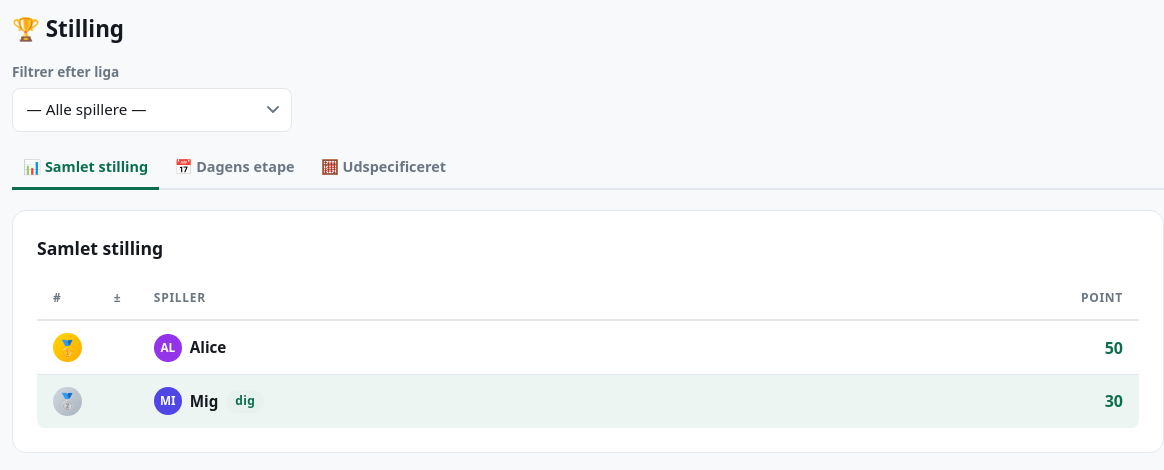
Test: LeaderboardPage › viser samlet stilling for valgt liga med ligaens navn
Select "Testliga" in the dropdown labelled "Filtrer efter liga" at coordinates (152, 110), box [12,88,292,132]
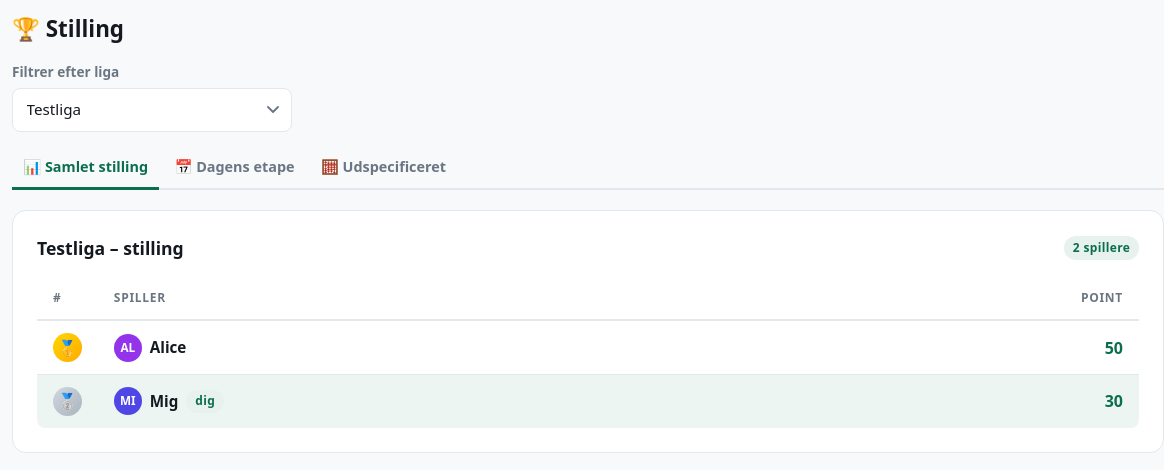
Expected: the heading "Testliga – stilling" is shown, [37,235,184,261]
